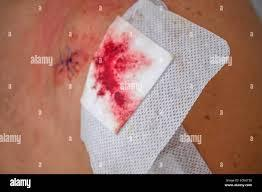Bandage: (81, 0, 228, 172)
cotton: (81, 0, 228, 173)
